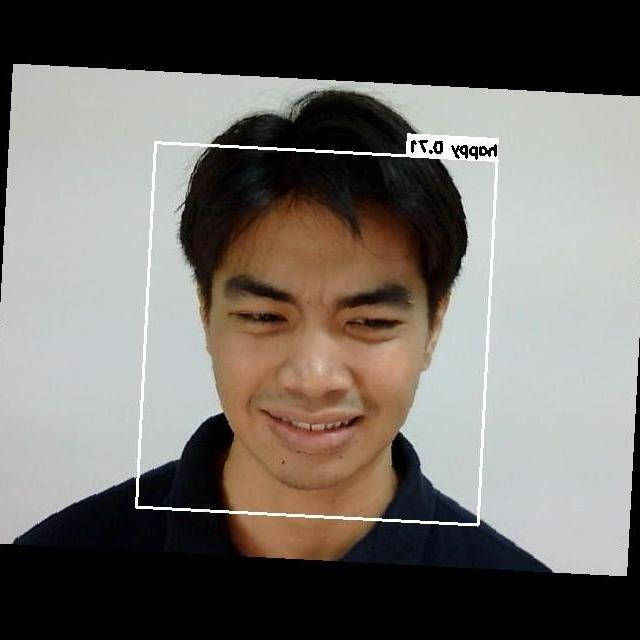Disgust: (200, 251, 444, 475)
